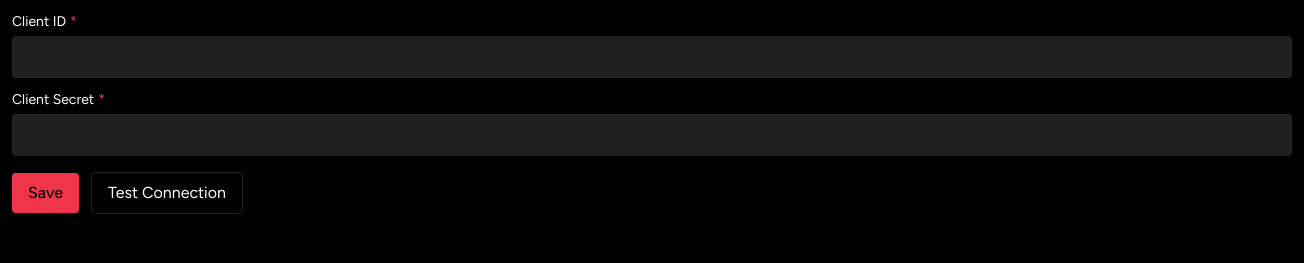
Scenario: AdapterForm › clears the submit error at the start of each submit attempt
The image size is (1304, 263).
Click the button "Save" at (46, 193), box [12, 173, 79, 213]
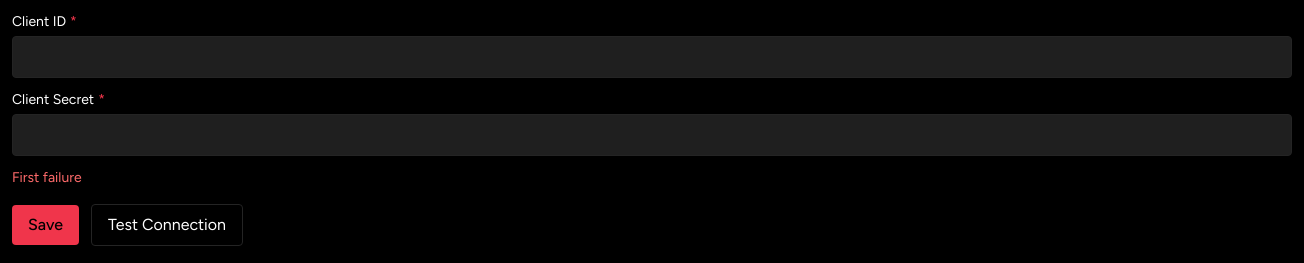
Now the text "First failure" is shown, box [12, 169, 82, 186]
Click the button "Save" at (46, 225), box [12, 205, 79, 245]
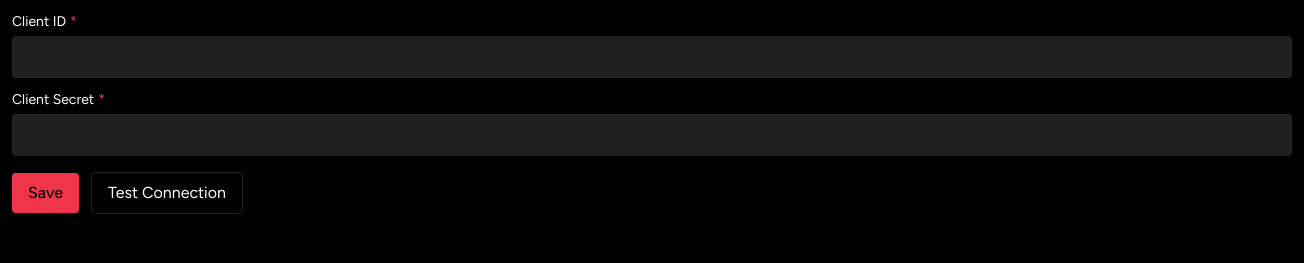
Now the text "First failure" is gone
